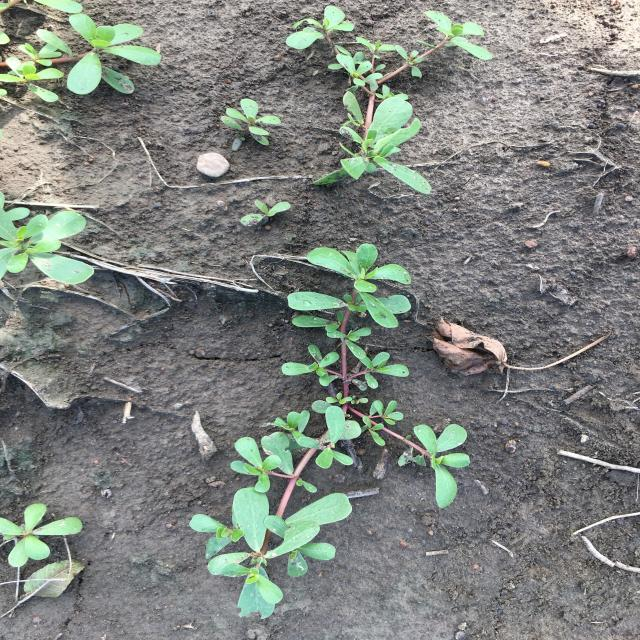Purslane: (189, 243, 471, 619), (285, 6, 494, 196), (0, 0, 161, 102), (0, 191, 94, 284), (0, 503, 82, 567), (221, 98, 281, 146), (240, 200, 291, 227)
